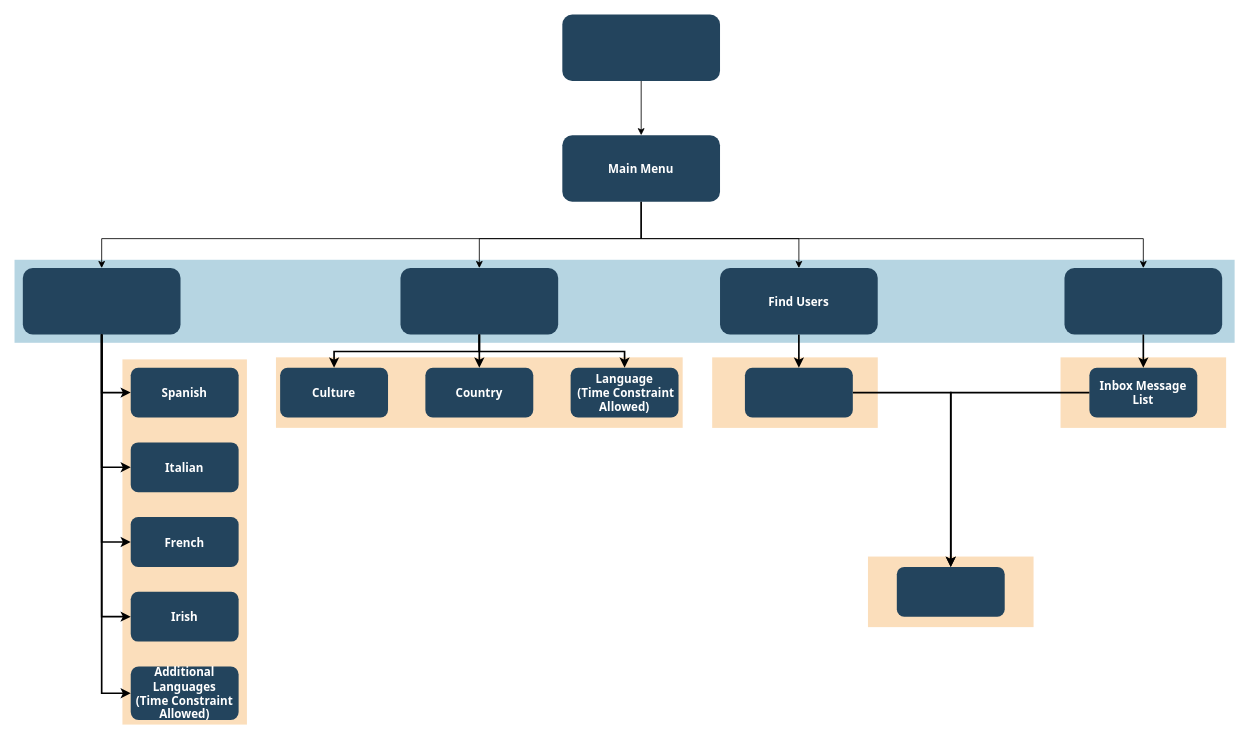
This 1248x739 diagram has some shape labels left out. Each missing label, with the centre of its shape:
"Email View" goes at (950,591).
"Facts" goes at (479,301).
"Flash Card Games" goes at (101,301).
"See Messages" goes at (1143,301).
"Splash/Login Page" goes at (641,47).
"User List Table" goes at (798,392).
